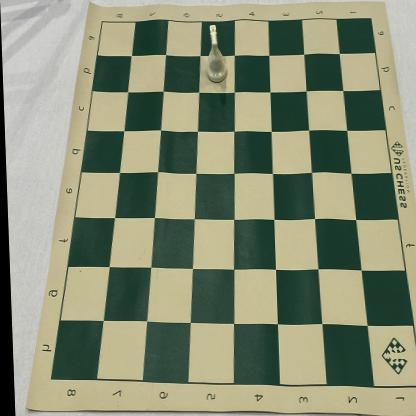white-knight: (203, 24, 228, 84)
